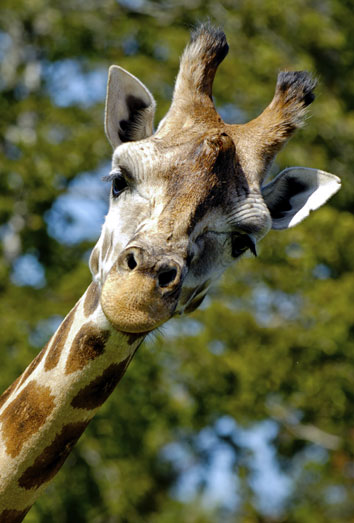Jirafa: (43, 18, 350, 325)
